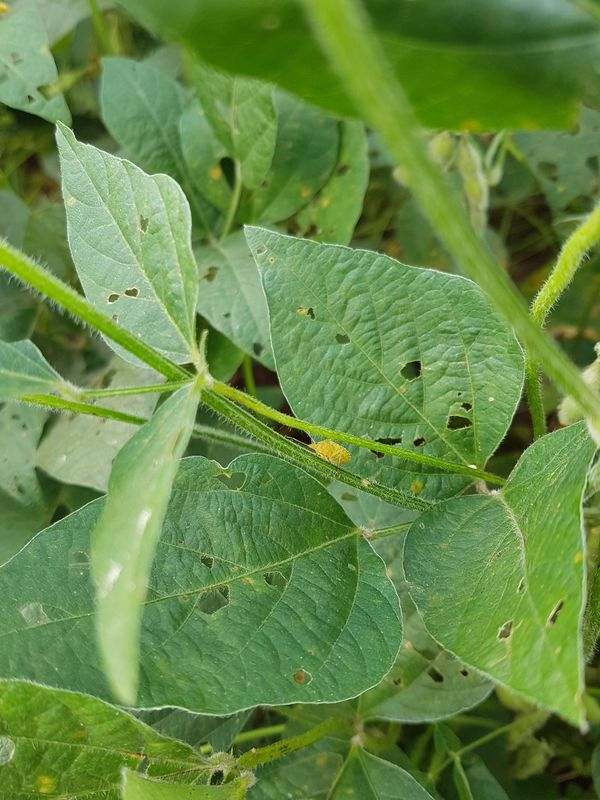Euschistus_heros_ninfa: (299, 432, 358, 472)
